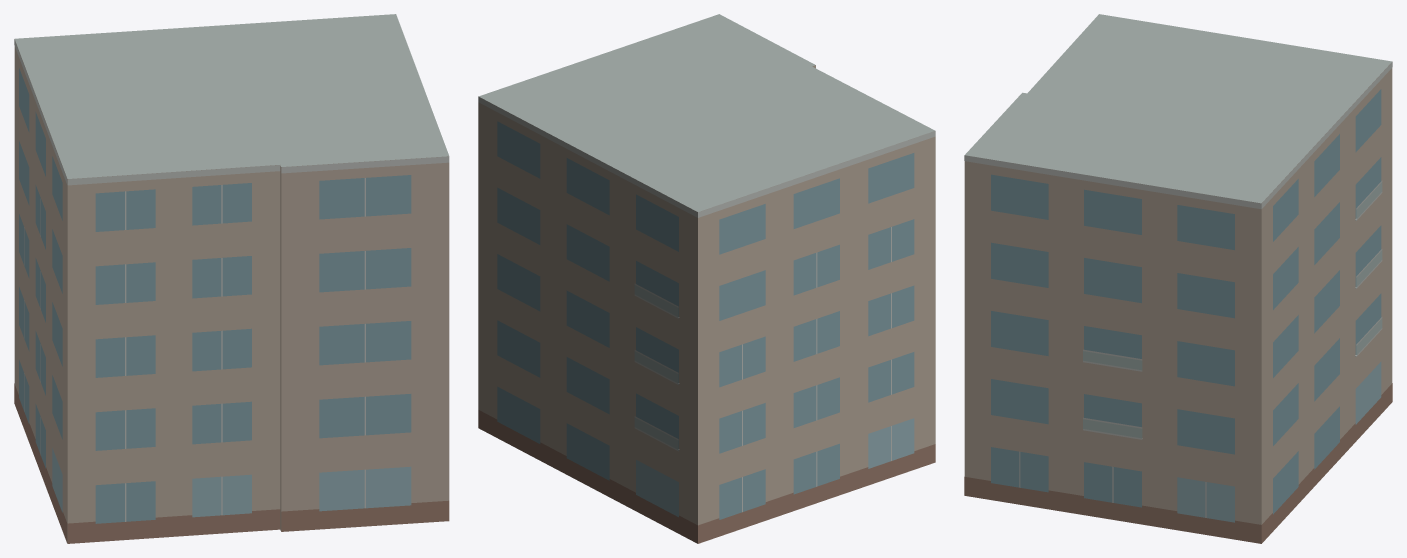
File: survey-upis-32713277.glb
3 renders of one model, left to right at view 1: azimuth 30°, elevation 25°; view 2: azimuth 150°, elevation 25°; view 3: azimuth 270°, elevation 25°, orthographic. The views are drawn at different scales.
Parts seen in each view (by area): view 1: survey-upis-32713277.tmp; view 2: survey-upis-32713277.tmp; view 3: survey-upis-32713277.tmp.
Boxes of the visible parts, x1,y1,x2,y2 form: survey-upis-32713277.tmp: [14, 14, 449, 543]; survey-upis-32713277.tmp: [478, 14, 935, 543]; survey-upis-32713277.tmp: [964, 14, 1392, 543].
Size of the model in its own units: 16.71 by 14 by 15.96.
